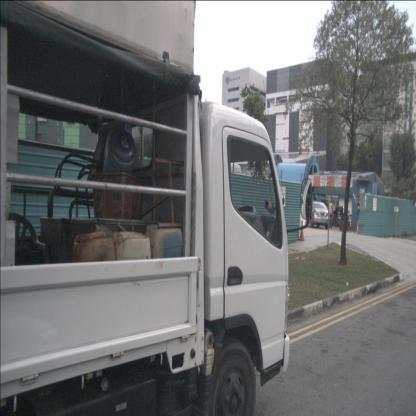cone: (298, 220, 306, 241), (356, 220, 360, 234)
